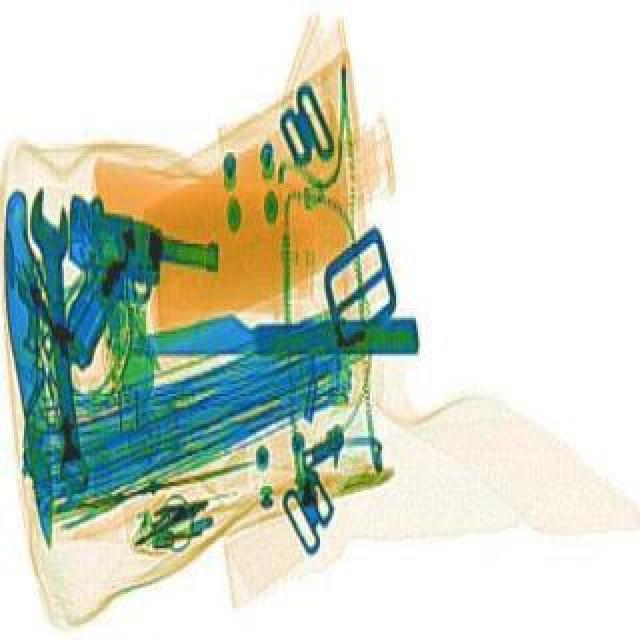gun: (28, 188, 228, 392)
knife: (0, 188, 56, 546), (122, 306, 420, 362)
scissors: (26, 184, 92, 492)
